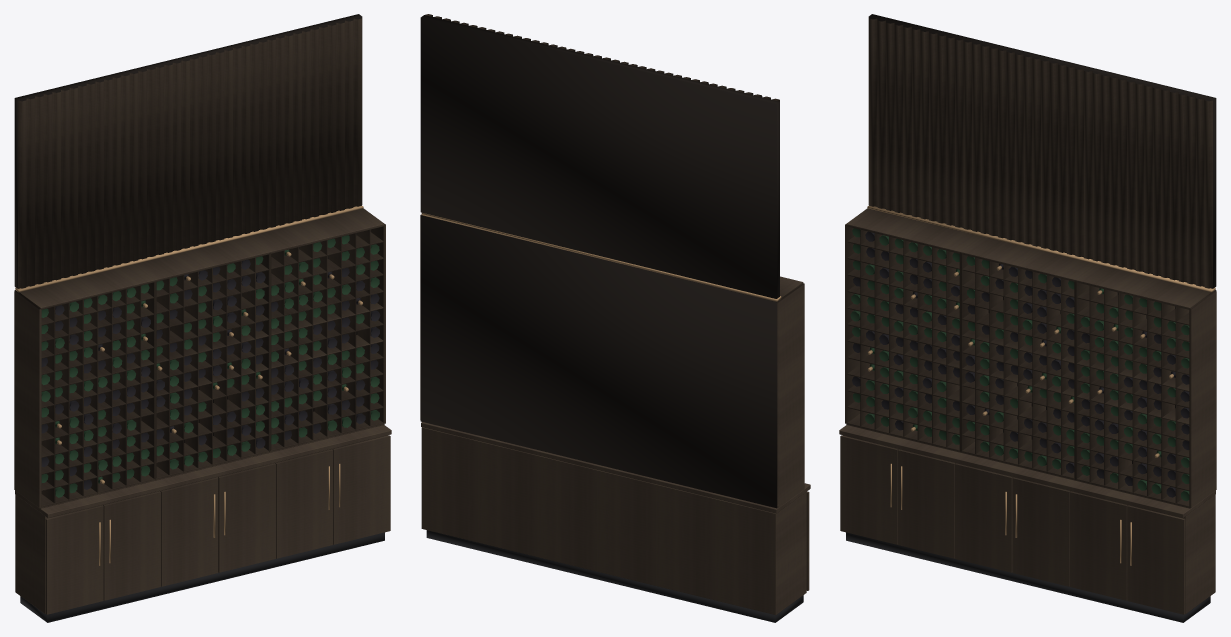
Rendered from dining_wine_rack_short.gltf.
3 views of the same model, side by side, from view 1: azimuth 30°, elevation 25°; view 2: azimuth 150°, elevation 25°; view 3: azimuth 330°, elevation 25° (orthographic). The views are drawn at different scales.
Visible parts, largest first — view 1: DiningWineRackShort_Frame, DiningWineRackShort_CrownRibs, DiningWineRackShort_Doors, DiningWineRackShort_BottlesGreen, DiningWineRackShort_BottlesBlack, DiningWineRackShort_Worktop, DiningWineRackShort_Cabinet, DiningWineRackShort_Plinth, DiningWineRackShort_Crown, DiningWineRackShort_Reveal, DiningWineRackShort_Pulls; view 2: DiningWineRackShort_Backing, DiningWineRackShort_Crown, DiningWineRackShort_Cabinet, DiningWineRackShort_Frame, DiningWineRackShort_Plinth, DiningWineRackShort_Worktop, DiningWineRackShort_Reveal, DiningWineRackShort_CrownRibs; view 3: DiningWineRackShort_Frame, DiningWineRackShort_CrownRibs, DiningWineRackShort_Doors, DiningWineRackShort_BottlesGreen, DiningWineRackShort_BottlesBlack, DiningWineRackShort_Worktop, DiningWineRackShort_Cabinet, DiningWineRackShort_Plinth, DiningWineRackShort_Crown, DiningWineRackShort_Reveal, DiningWineRackShort_Pulls.
Boxes of the visible parts, bbox=[...] form: DiningWineRackShort_Frame: bbox=[14, 208, 385, 508]; DiningWineRackShort_CrownRibs: bbox=[18, 17, 362, 288]; DiningWineRackShort_Doors: bbox=[45, 435, 390, 614]; DiningWineRackShort_BottlesGreen: bbox=[41, 235, 379, 497]; DiningWineRackShort_BottlesBlack: bbox=[41, 259, 380, 489]; DiningWineRackShort_Worktop: bbox=[15, 425, 391, 517]; DiningWineRackShort_Cabinet: bbox=[15, 435, 387, 613]; DiningWineRackShort_Plinth: bbox=[20, 532, 384, 622]; DiningWineRackShort_Crown: bbox=[14, 14, 362, 288]; DiningWineRackShort_Reveal: bbox=[15, 205, 363, 292]; DiningWineRackShort_Pulls: bbox=[99, 463, 340, 565]; DiningWineRackShort_Backing: bbox=[420, 215, 777, 508]; DiningWineRackShort_Crown: bbox=[420, 15, 779, 298]; DiningWineRackShort_Cabinet: bbox=[421, 427, 806, 615]; DiningWineRackShort_Frame: bbox=[420, 214, 804, 508]; DiningWineRackShort_Plinth: bbox=[426, 530, 803, 622]; DiningWineRackShort_Worktop: bbox=[421, 422, 810, 513]; DiningWineRackShort_Reveal: bbox=[421, 212, 781, 301]; DiningWineRackShort_CrownRibs: bbox=[425, 14, 779, 101]; DiningWineRackShort_Frame: bbox=[845, 208, 1216, 508]; DiningWineRackShort_CrownRibs: bbox=[868, 17, 1212, 288]; DiningWineRackShort_Doors: bbox=[840, 435, 1185, 614]; DiningWineRackShort_BottlesGreen: bbox=[850, 228, 1189, 501]; DiningWineRackShort_BottlesBlack: bbox=[852, 231, 1189, 497]; DiningWineRackShort_Worktop: bbox=[839, 425, 1215, 517]; DiningWineRackShort_Cabinet: bbox=[843, 435, 1215, 613]; DiningWineRackShort_Plinth: bbox=[846, 532, 1210, 622]; DiningWineRackShort_Crown: bbox=[868, 14, 1216, 288]; DiningWineRackShort_Reveal: bbox=[867, 205, 1215, 292]; DiningWineRackShort_Pulls: bbox=[890, 463, 1131, 565].
Size of the model in its own units: 3.02 by 4.2 by 0.5041.
6 materials, 1 textured.
